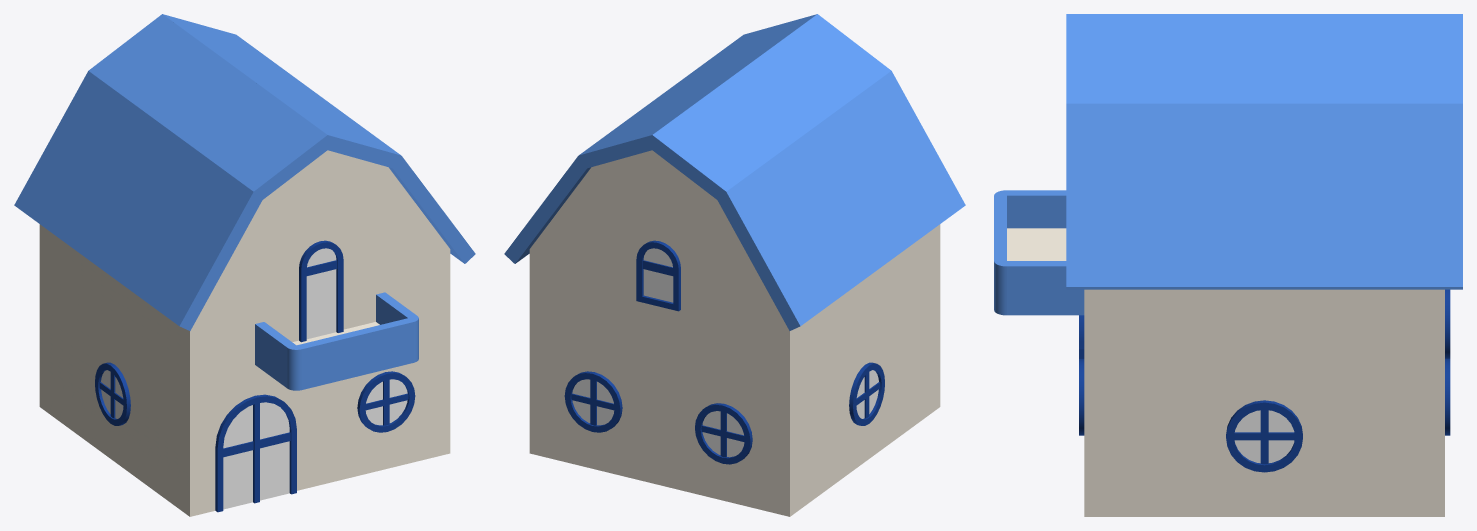
The model's file is M1_House02.fbx.
3 renders of one model, left to right at view 1: azimuth 30°, elevation 25°; view 2: azimuth 150°, elevation 25°; view 3: azimuth 270°, elevation 25°, orthographic. The views are drawn at different scales.
Parts seen in each view (by area): view 1: mergedBlocks; view 2: mergedBlocks; view 3: mergedBlocks.
Part boxes in pixels (x1,y1,x2,y2): mergedBlocks: (14,14,475,516); mergedBlocks: (504,14,965,516); mergedBlocks: (994,14,1462,516).
Bounding box in the file's own units: 22.77 × 26.12 × 26.
